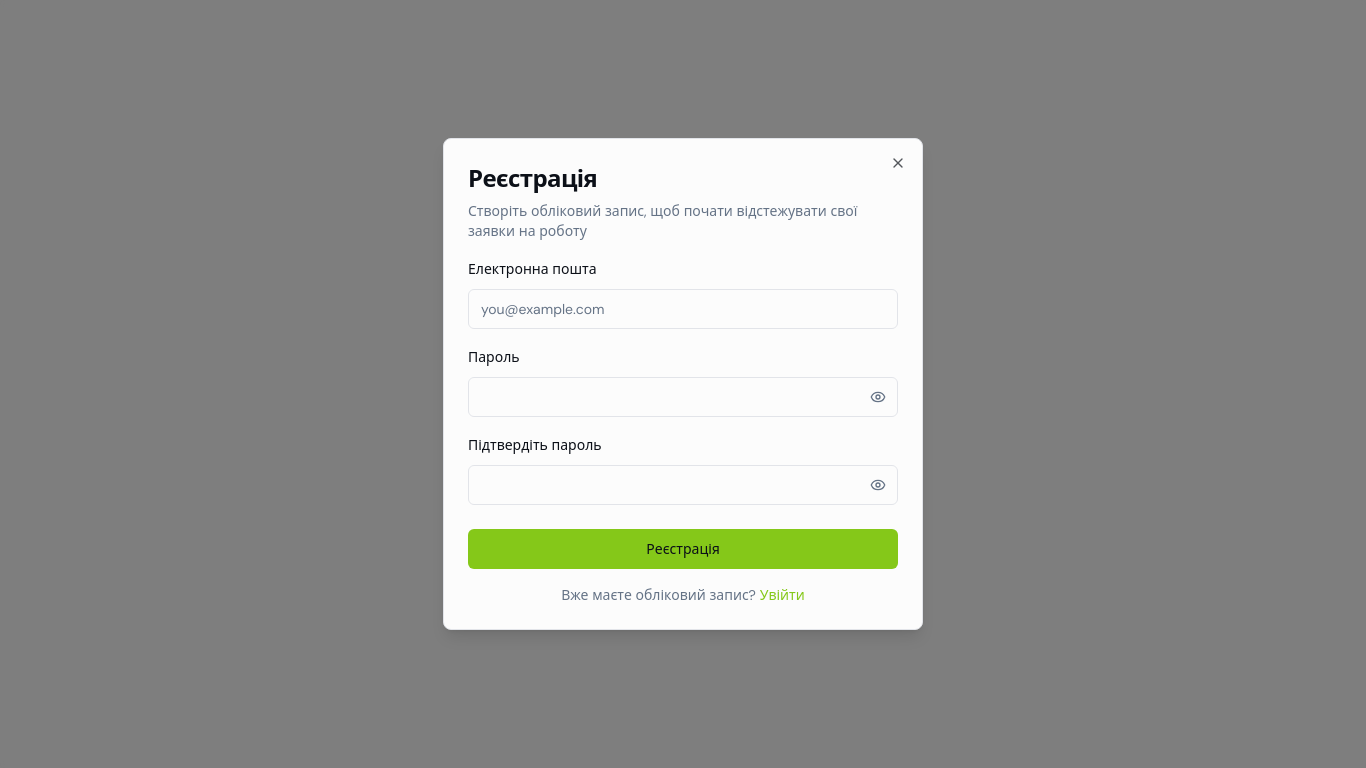
a password the server refused, in uk › is explained in the registration form's own language
Type "user@test.com" into the field labelled "Електронна пошта" at (683, 309), box [468,289,898,329]
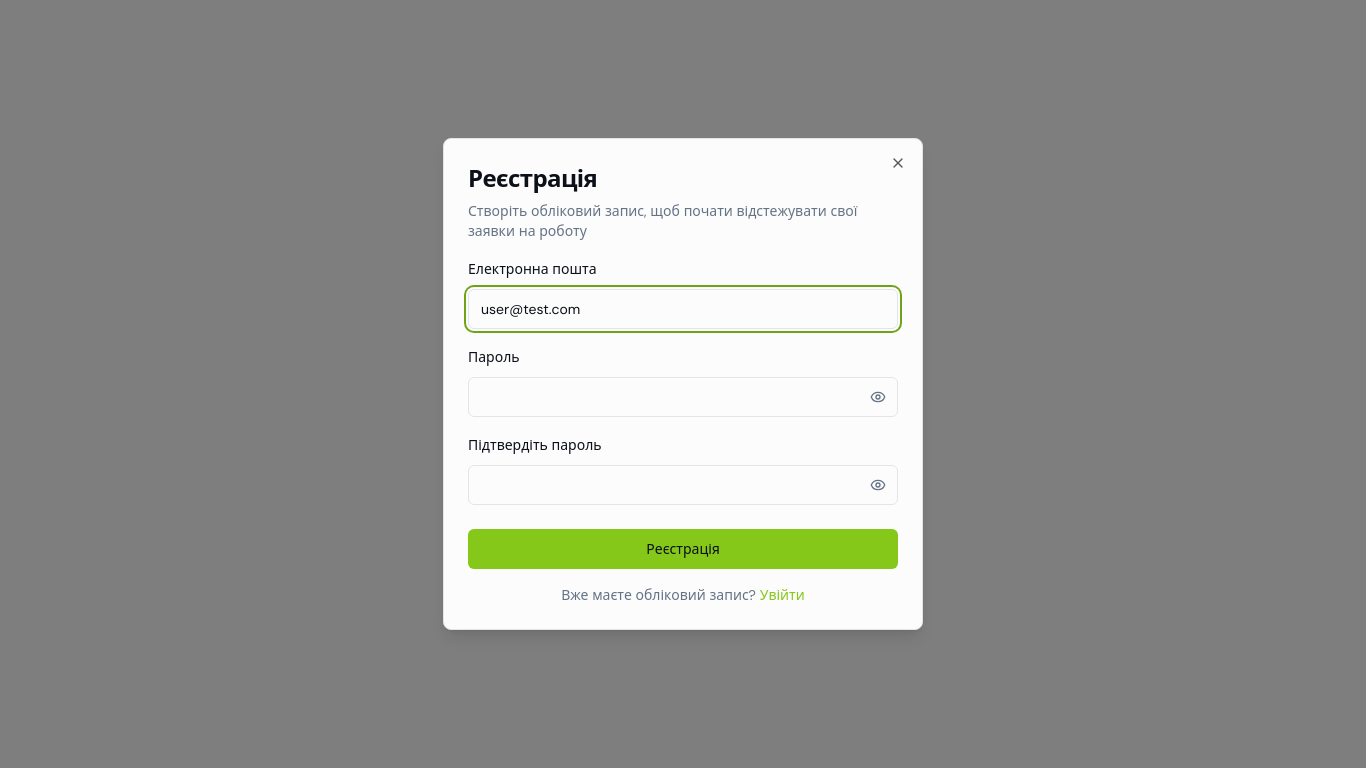
Type "validpass1" into the password field labelled "Пароль" at (683, 397), box [468,377,898,417]
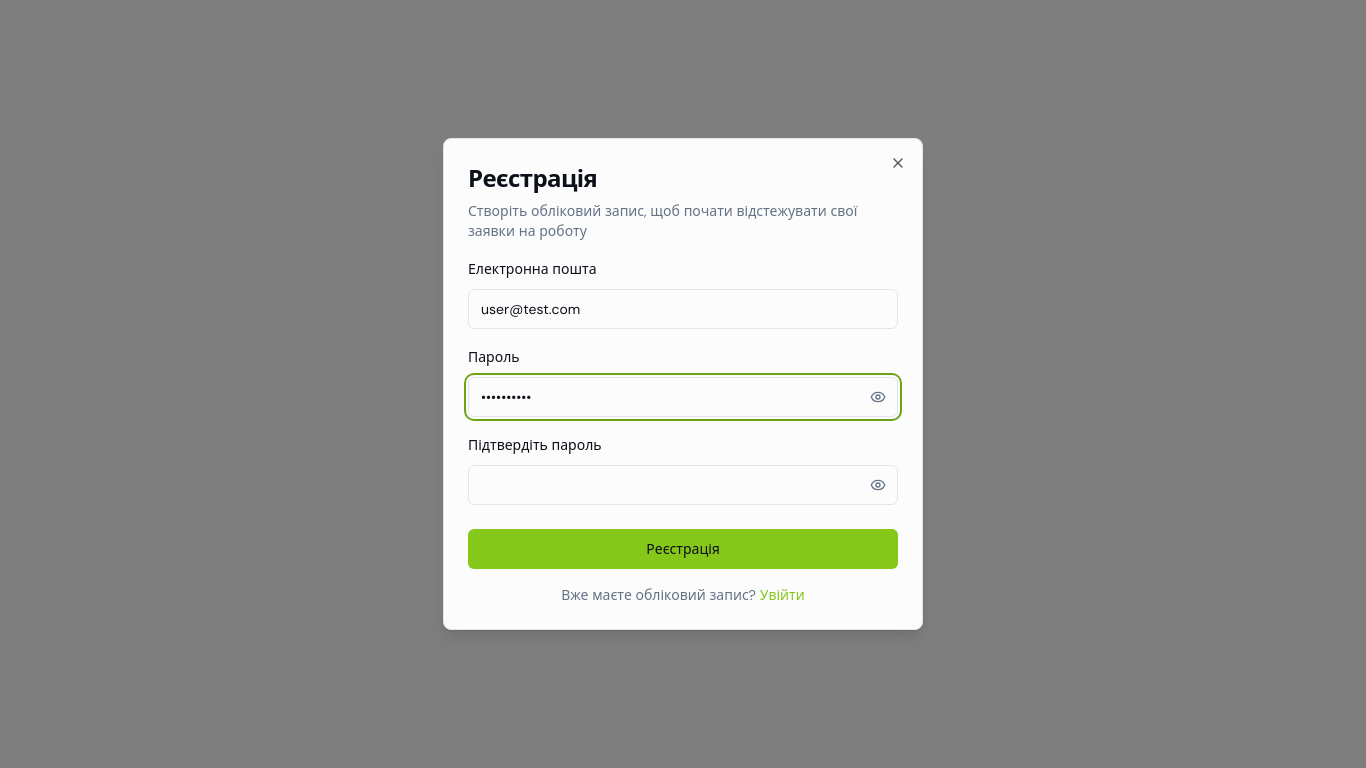
Type "validpass1" into the password field labelled "Підтвердіть пароль" at (683, 485), box [468,465,898,505]
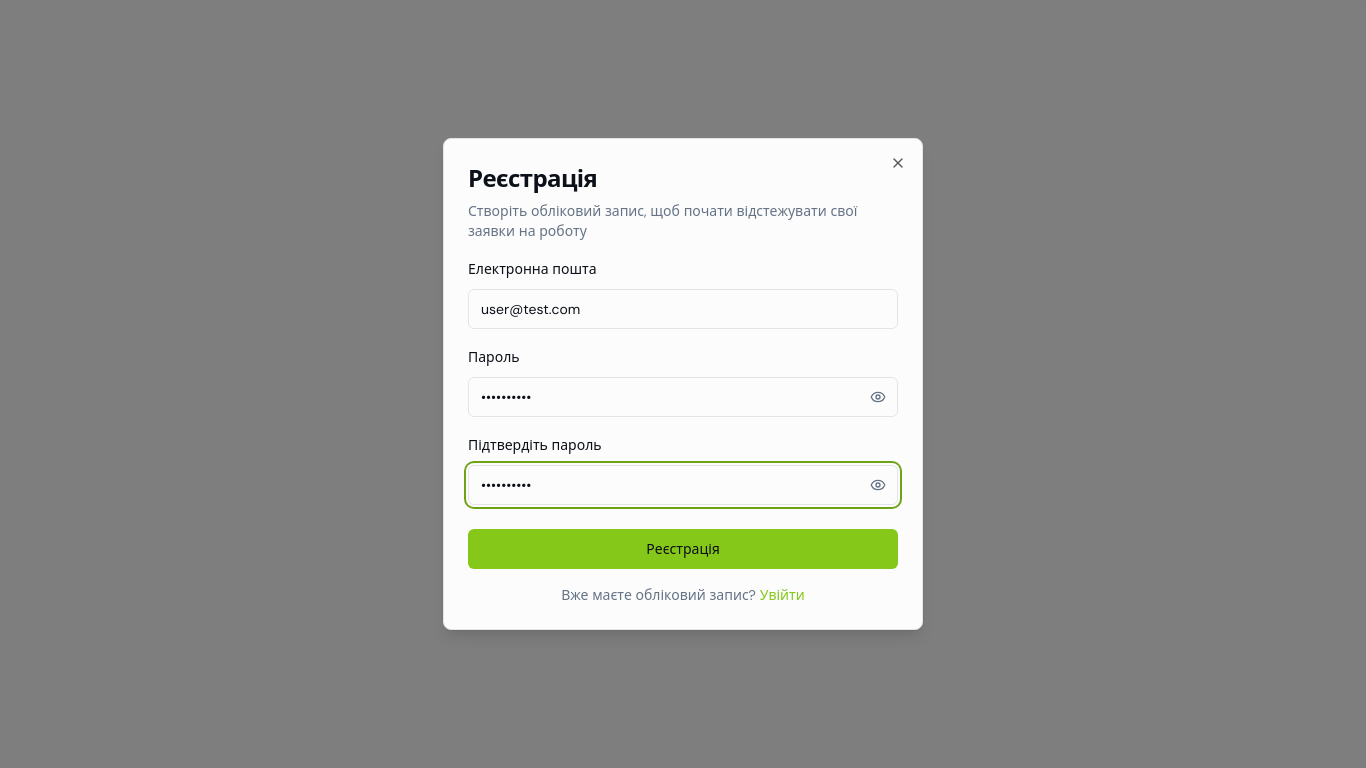
Click the button "Реєстрація" at (683, 549), box [468,529,898,569]
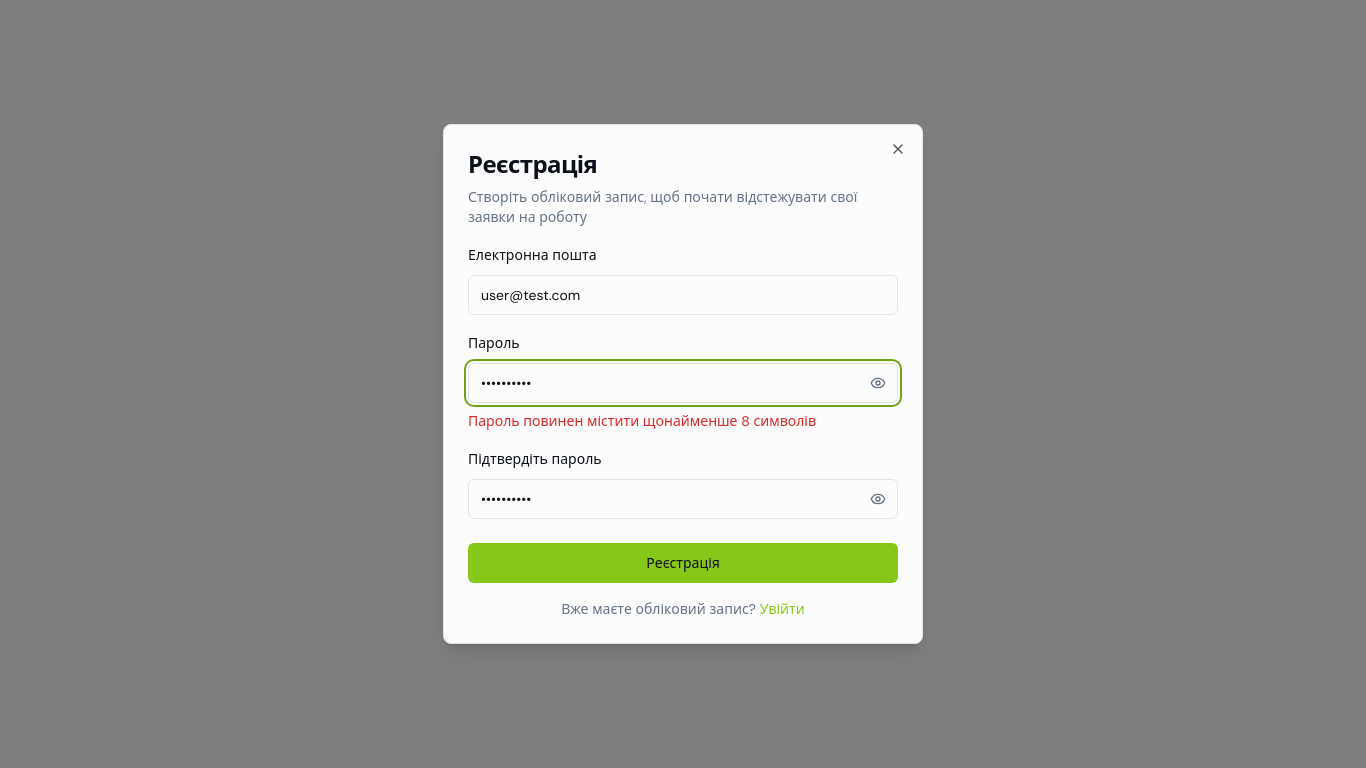
Expected: the text "Пароль повинен містити щонайменше 8 символів" is shown, [468,412,816,430]
